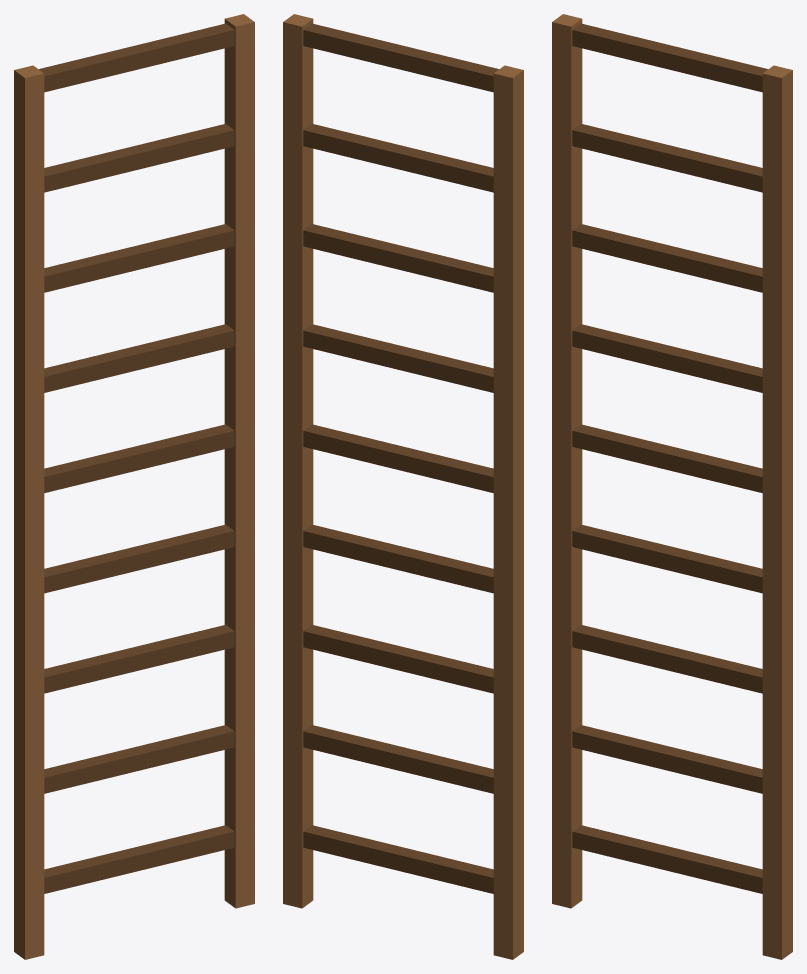
File: ladder.glb
3 views of the same model, side by side, from view 1: azimuth 30°, elevation 25°; view 2: azimuth 150°, elevation 25°; view 3: azimuth 330°, elevation 25° (orthographic).
Parts seen in each view (by area): view 1: ladder; view 2: ladder; view 3: ladder.
Part boxes in pixels (x1=…): ladder: x1=14, y1=14, x2=254, y2=959; ladder: x1=283, y1=14, x2=523, y2=959; ladder: x1=552, y1=14, x2=792, y2=959.
Size of the model in its own units: 0.6 by 2.2 by 0.05.
1 material, 1 textured.
